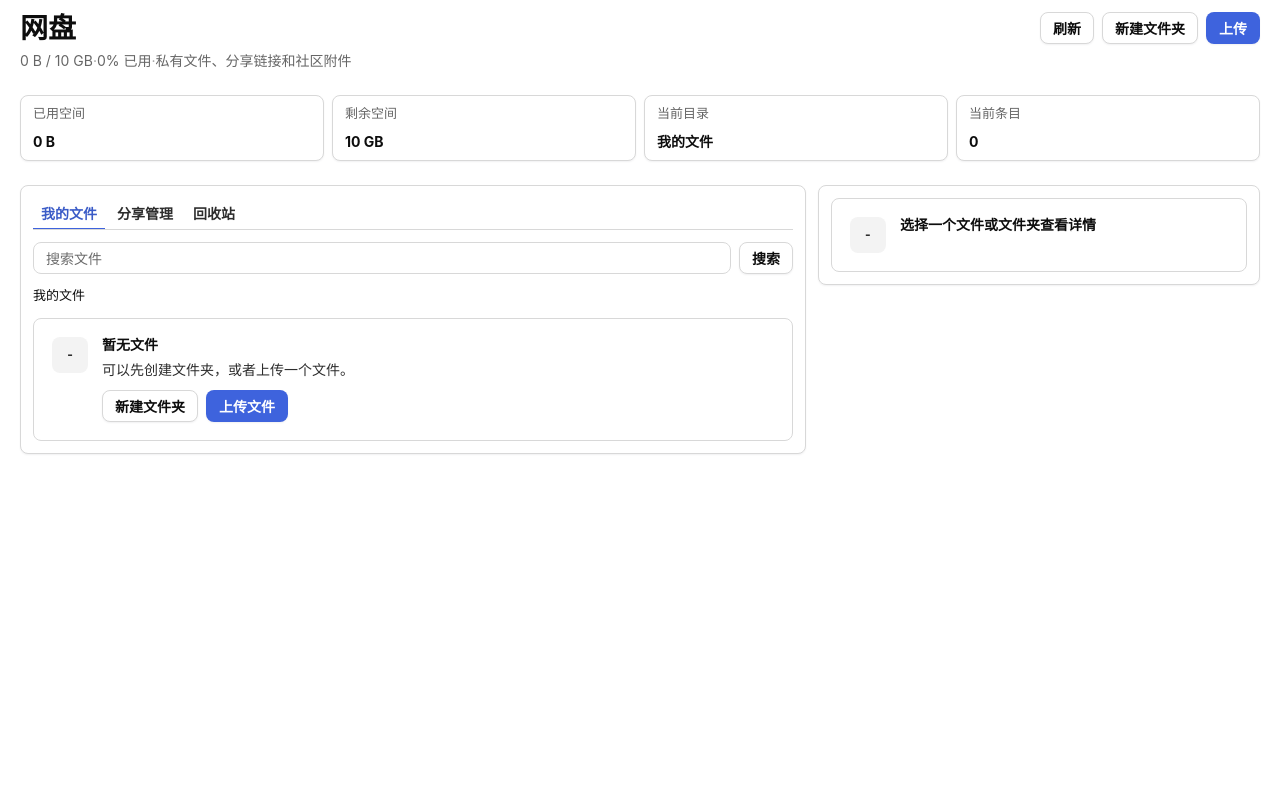
Test: DriveView › keeps persisted shares and retries the same page after load-more fails
Click the tab "分享管理".
click(145, 214)  # box [109, 198, 181, 230]
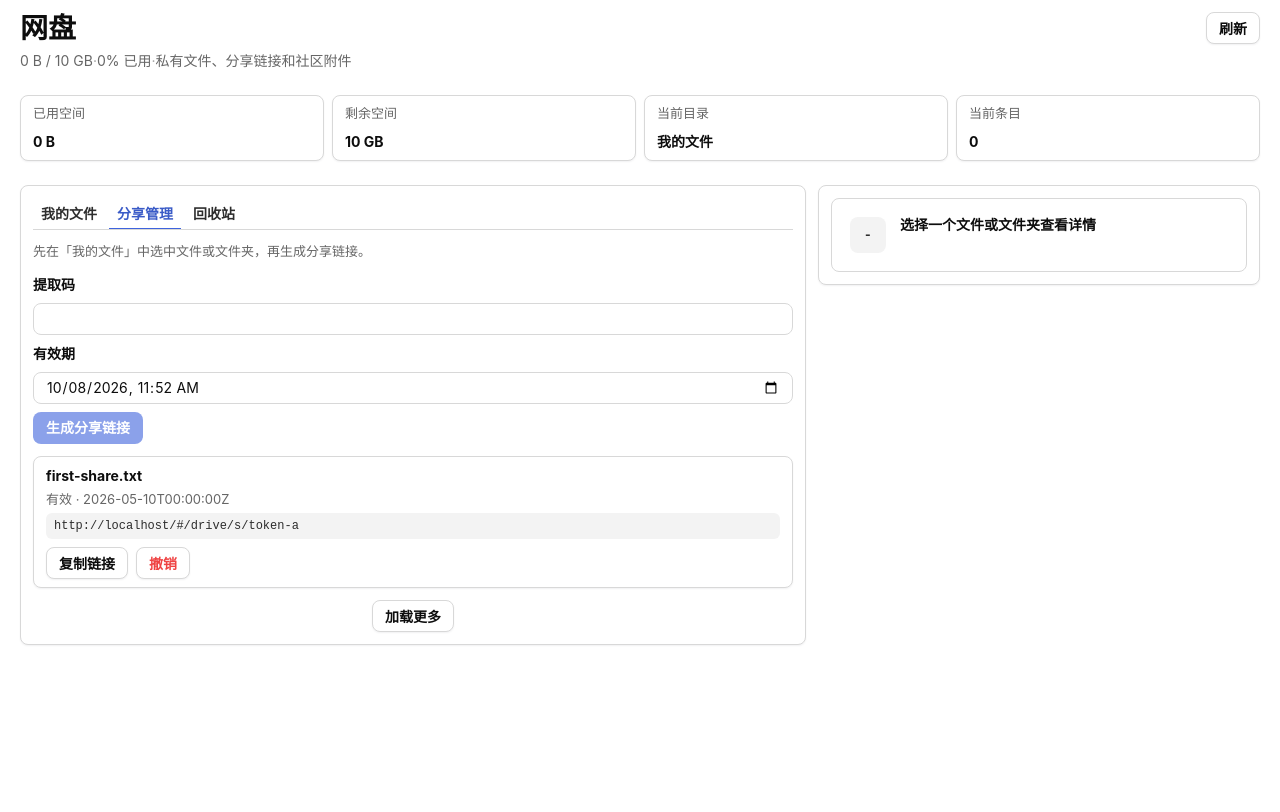
Click the button "加载更多".
click(413, 616)  # box [372, 600, 454, 632]
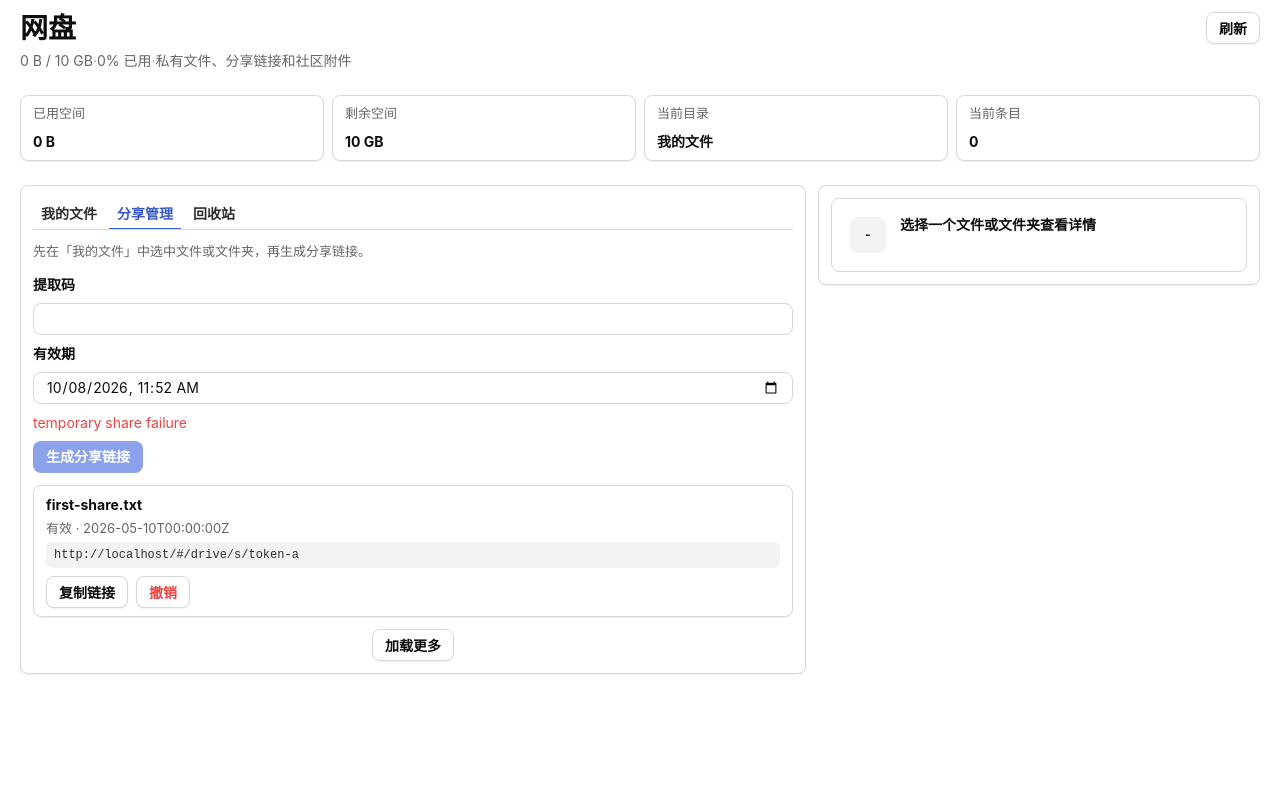
Now the text "first-share.txt" is shown, box [46, 496, 142, 513]
Now the text "temporary share failure" is shown, box [33, 414, 187, 431]
Click the button "加载更多".
click(413, 645)  # box [372, 629, 454, 661]
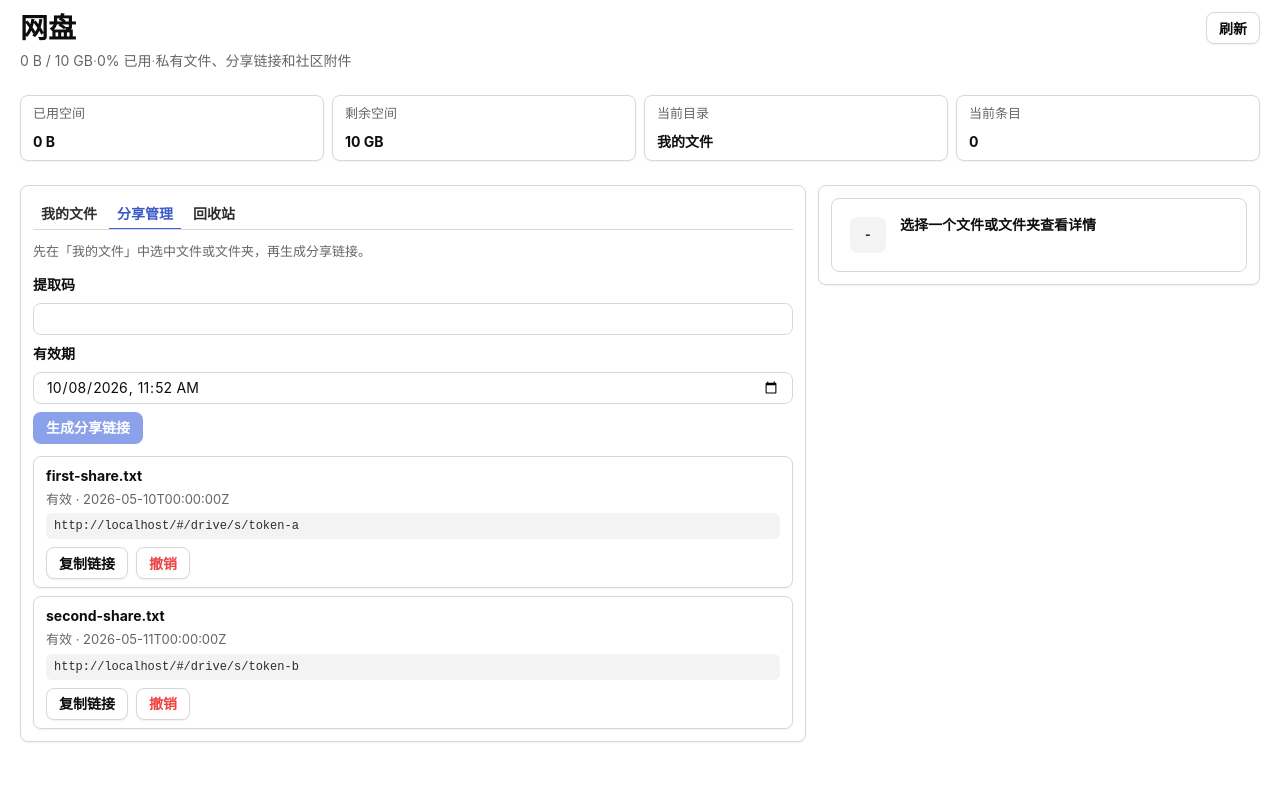
Now the text "first-share.txt" is shown, box [46, 467, 142, 484]
Now the text "second-share.txt" is shown, box [46, 607, 165, 624]
